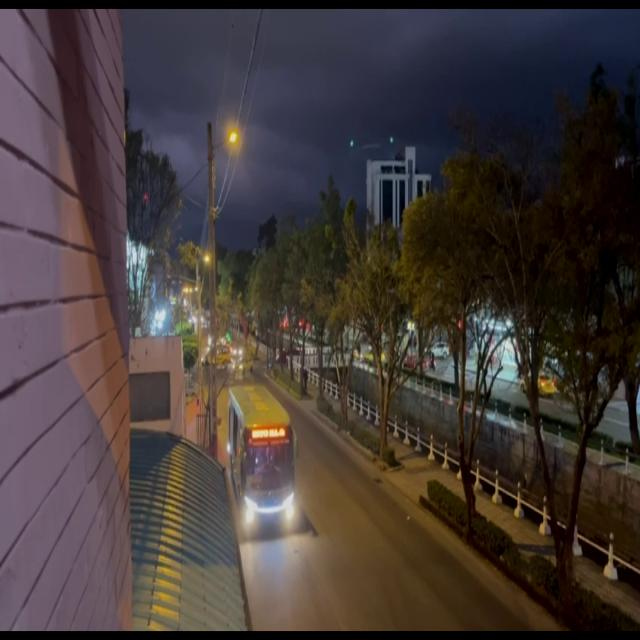BUS: (230, 396, 298, 526)
